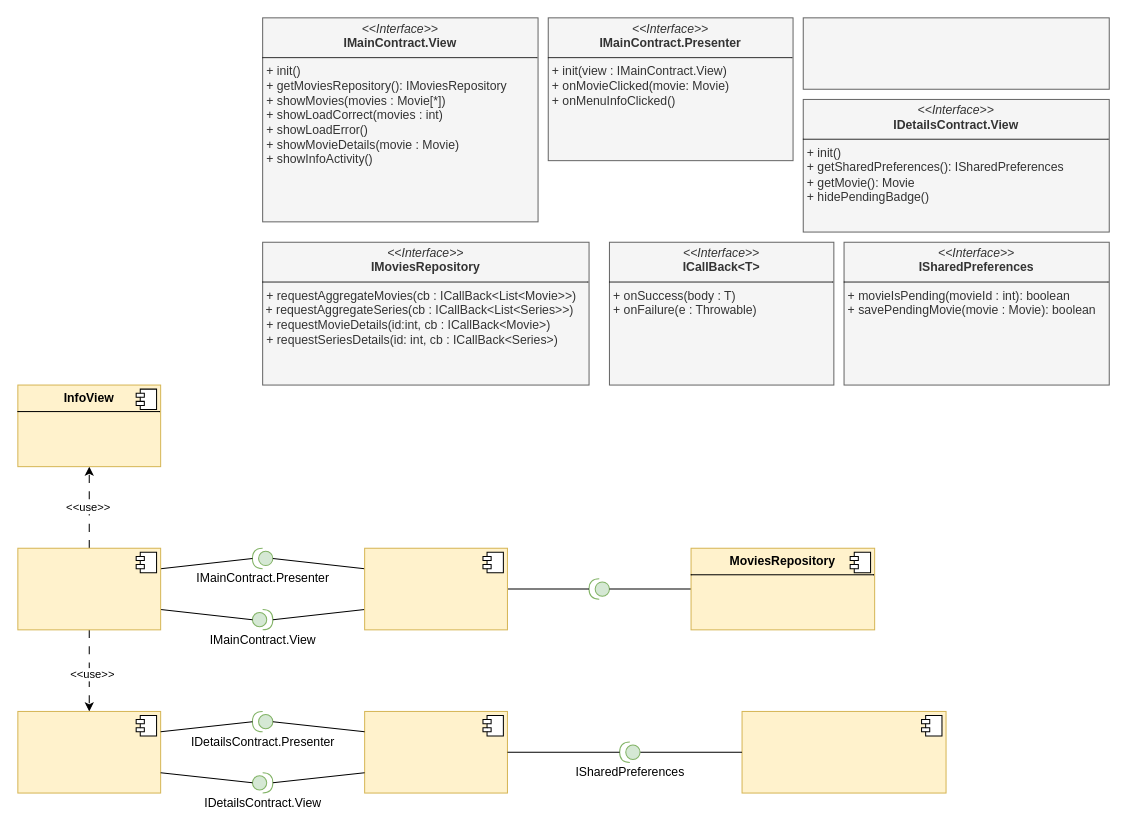
Image size: 1127x828. Some labels were removed from this diagram. The shapes that lost their labels are listed below. From the top down, each one's centre as x and y in pixels, then its label:
At pixel 955 53: "<<Interface>> IDetailsContract.Presenter + init(view : IDetailsContract.View)".
At pixel 89 588: "MainView".
At pixel 435 588: "MainPresenter - load()".
At pixel 598 588: "IMoviesRepository".
At pixel 89 751: "DetailsView".
At pixel 435 751: "DetailsPresenter".
At pixel 843 751: "SharedPreferencesImpl".
